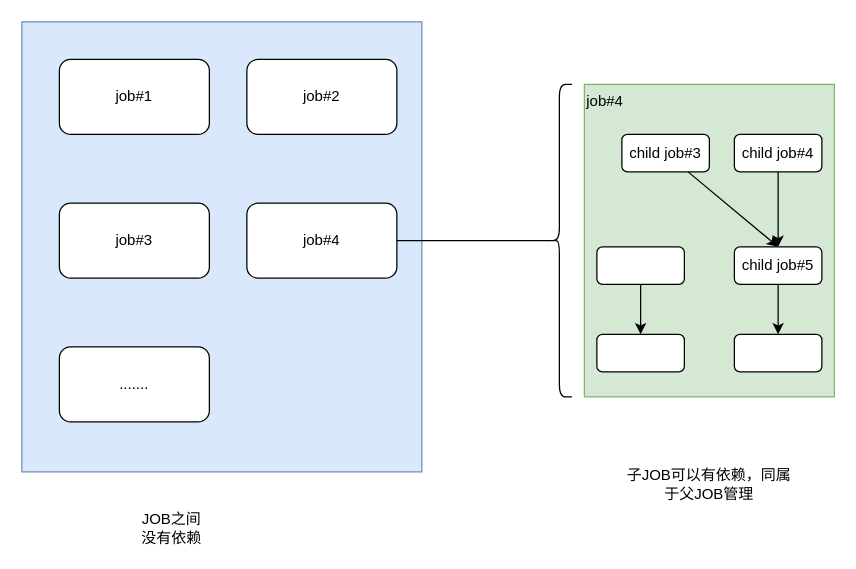
This 856x569 diagram has some shape labels left out. The shapes that lost their labels are listed below. From the top down, each one's centre as x and y in pixels, then its label:
[640,265]: child job#1
[640,352]: child job#2
[777,352]: child job#6
